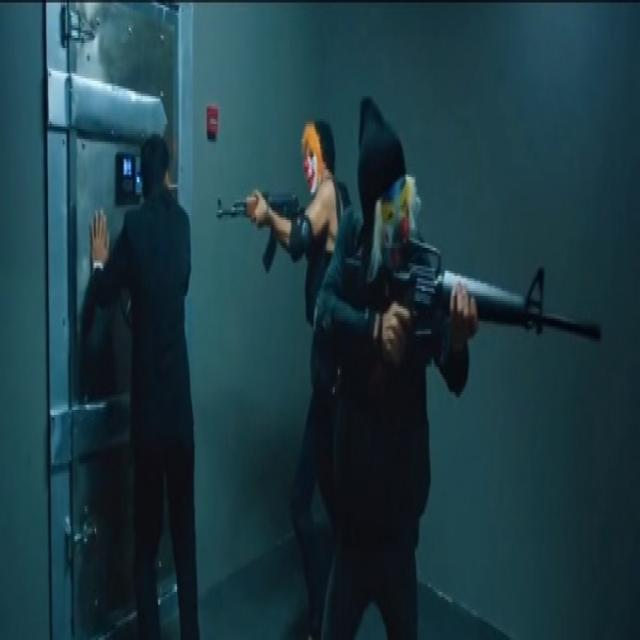rifle: (344, 235, 606, 382), (211, 191, 307, 274)
